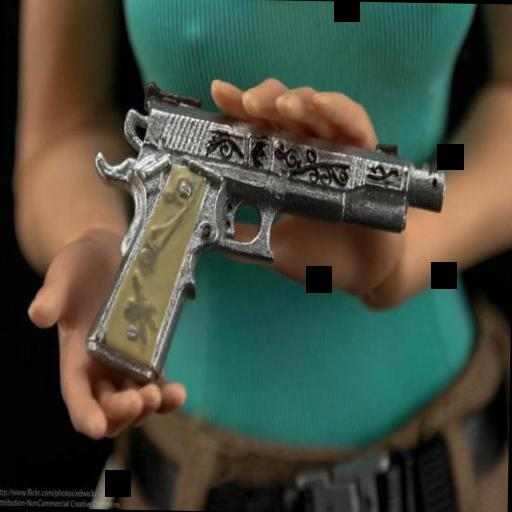Handgun: (81, 70, 446, 390)
